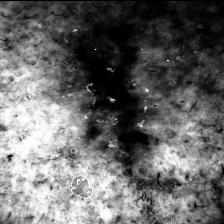Potentially Malignant Skin Tumors: (79, 42, 147, 120)
